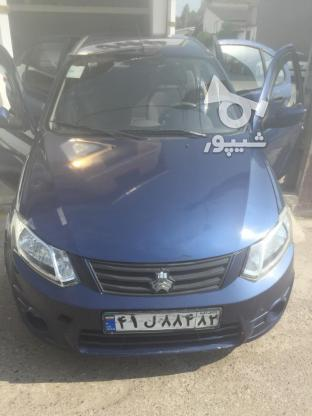car: (101, 306, 223, 338)
